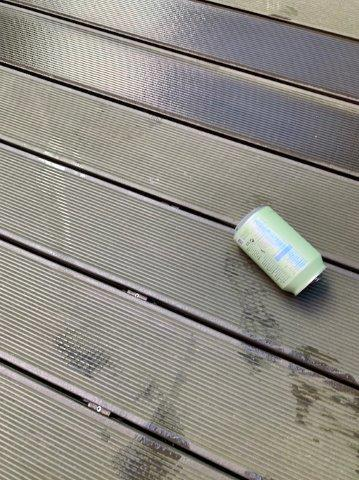kaleng: (234, 207, 325, 294)
